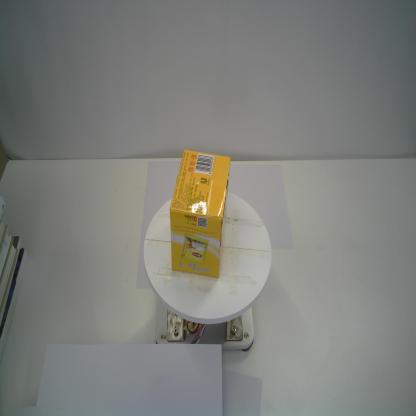Instant Drink: (169, 149, 232, 279)
